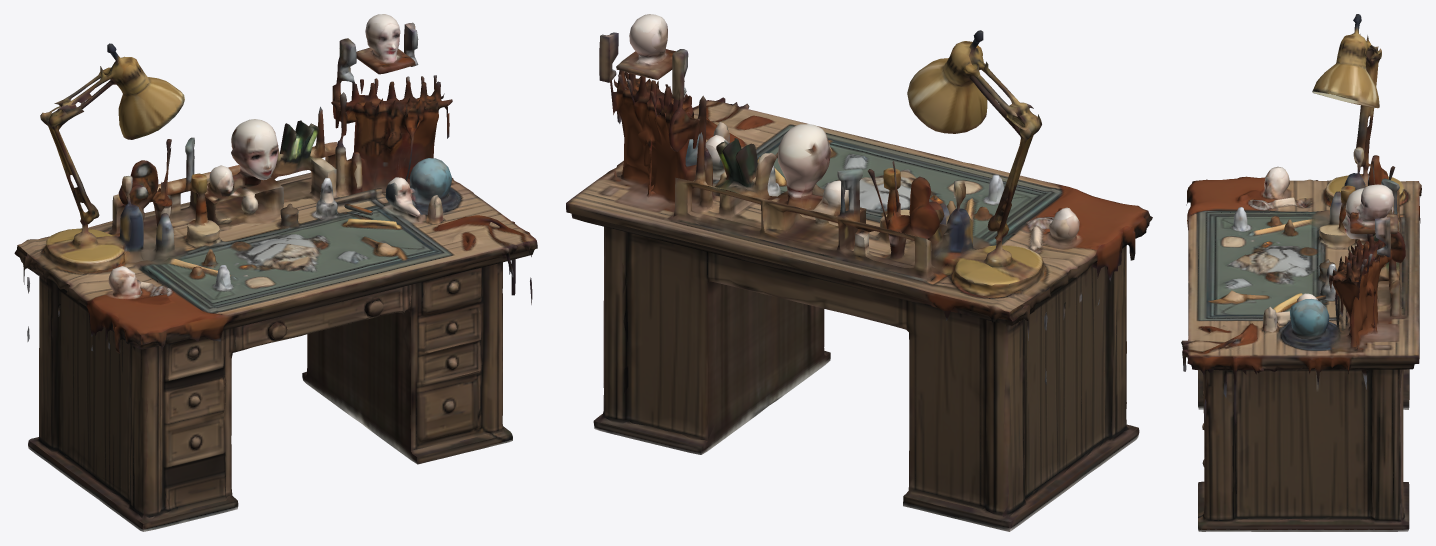
The model's file is Gesso_desk.glb.
3 views of the same model, side by side, from view 1: azimuth 30°, elevation 25°; view 2: azimuth 150°, elevation 25°; view 3: azimuth 270°, elevation 25° (orthographic). The views are drawn at different scales.
Parts seen in each view (by area): view 1: WorkBench; view 2: WorkBench; view 3: WorkBench.
Part boxes in pixels (left/top/right/bottom): WorkBench: left=14, top=14, right=537, bottom=531; WorkBench: left=566, top=14, right=1152, bottom=531; WorkBench: left=1181, top=14, right=1421, bottom=531.
Size of the model in its own units: 1.6 by 1.54 by 0.8898.
1 material, 1 textured.
